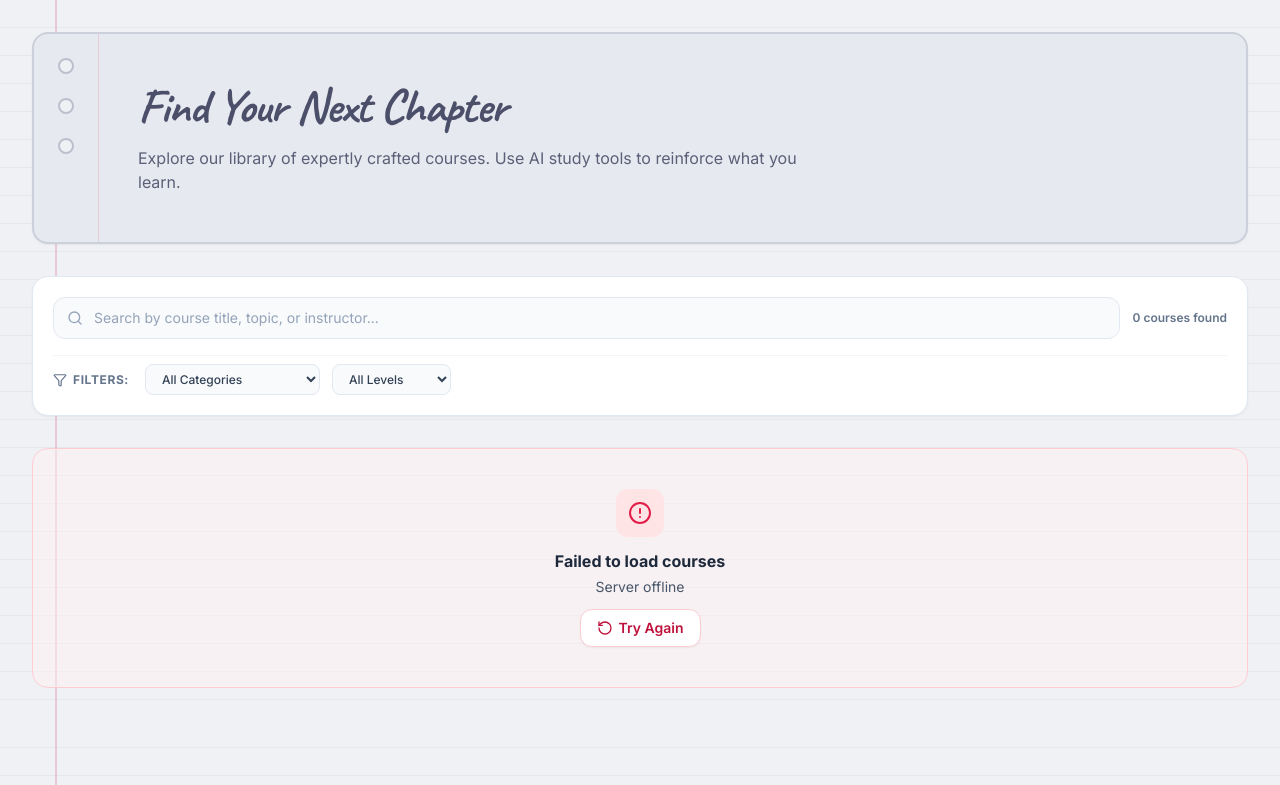
Test: CourseCatalogue › renders error state and retries on failure
Expected: the heading "Failed to load courses" is shown, left=555, top=549, right=725, bottom=573
Expected: the text "Server offline" is shown, left=596, top=578, right=684, bottom=595
Click the button "Try Again" at x=640, y=628, box left=580, top=609, right=700, bottom=647
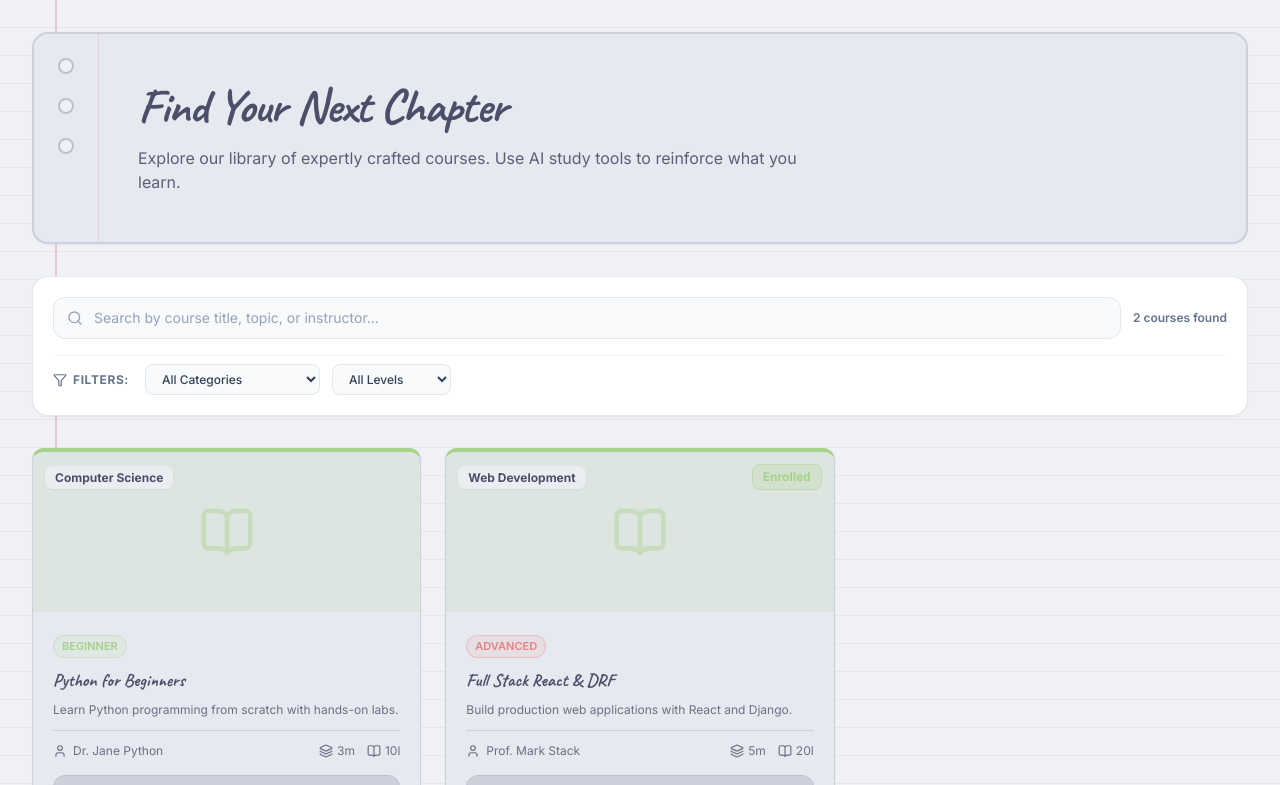
Expected: the link "Python for Beginners" is shown, left=53, top=668, right=185, bottom=690
